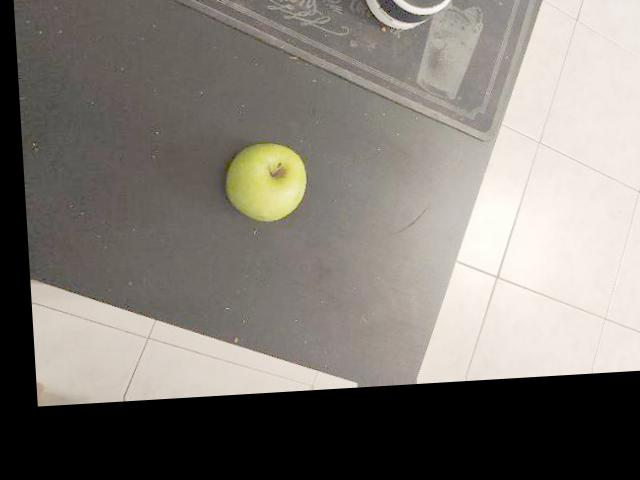apple: (198, 129, 323, 237)
